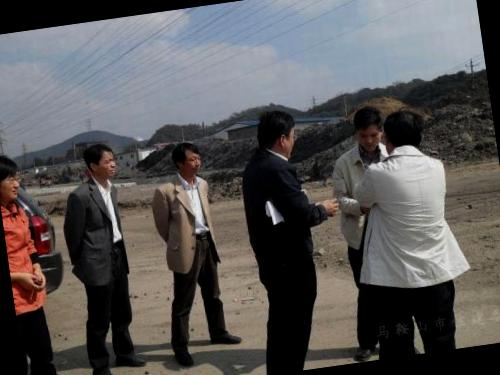no_helmet: (376, 100, 430, 161), (249, 103, 302, 161), (345, 98, 388, 154), (77, 135, 122, 186), (169, 138, 207, 182), (0, 154, 25, 210)
